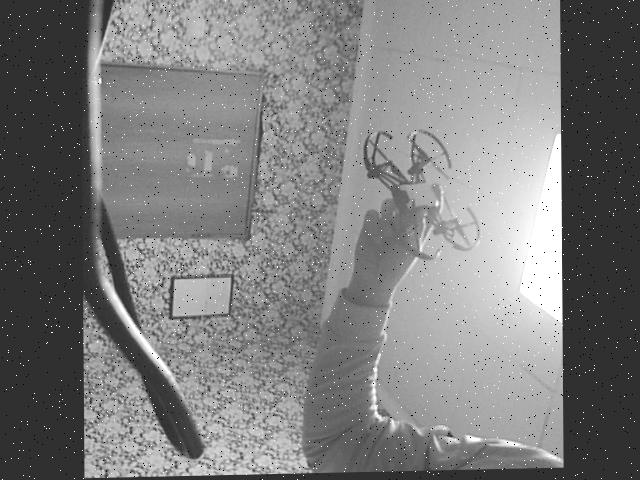drone: (356, 119, 489, 284)
